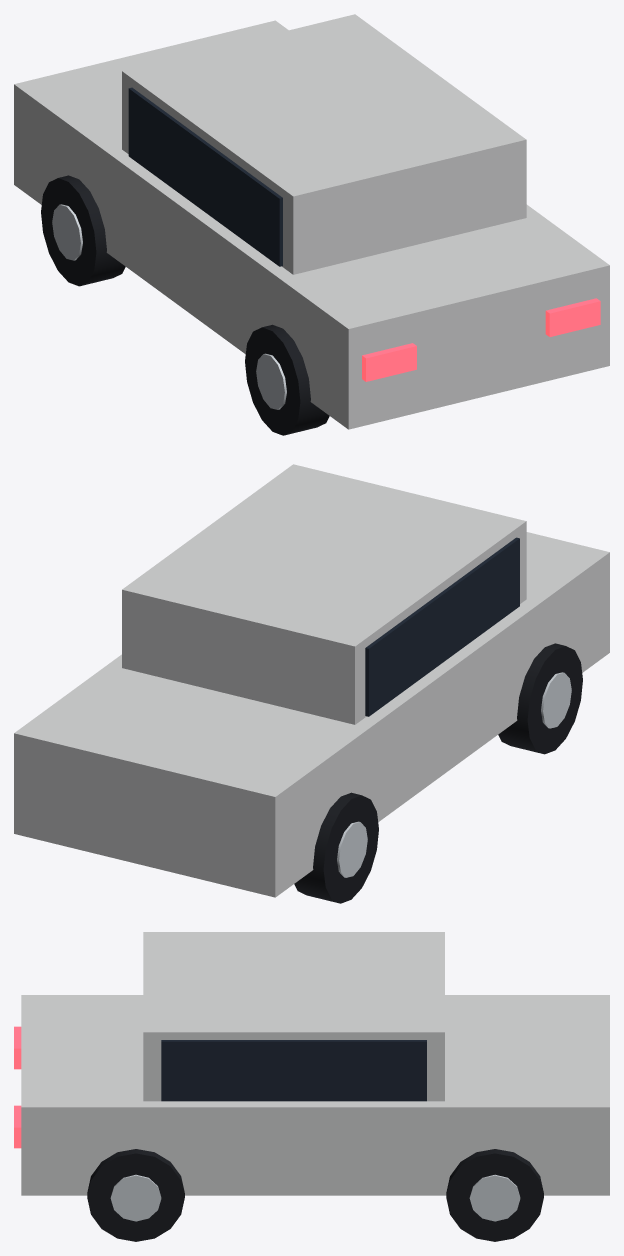
The model's file is plastic_sedan.glb.
3 renders of one model, top to bottom at view 1: azimuth 30°, elevation 25°; view 2: azimuth 150°, elevation 25°; view 3: azimuth 270°, elevation 25°, orthographic. The views are drawn at different scales.
Parts seen in each view (by area): view 1: plastic_sedan; view 2: plastic_sedan; view 3: plastic_sedan.
Boxes of the visible parts, x1,y1,x2,y2 form: plastic_sedan: (14, 14, 609, 435); plastic_sedan: (14, 464, 609, 903); plastic_sedan: (14, 932, 609, 1241).
Size of the model in its own units: 2.03 by 1.53 by 4.15.
